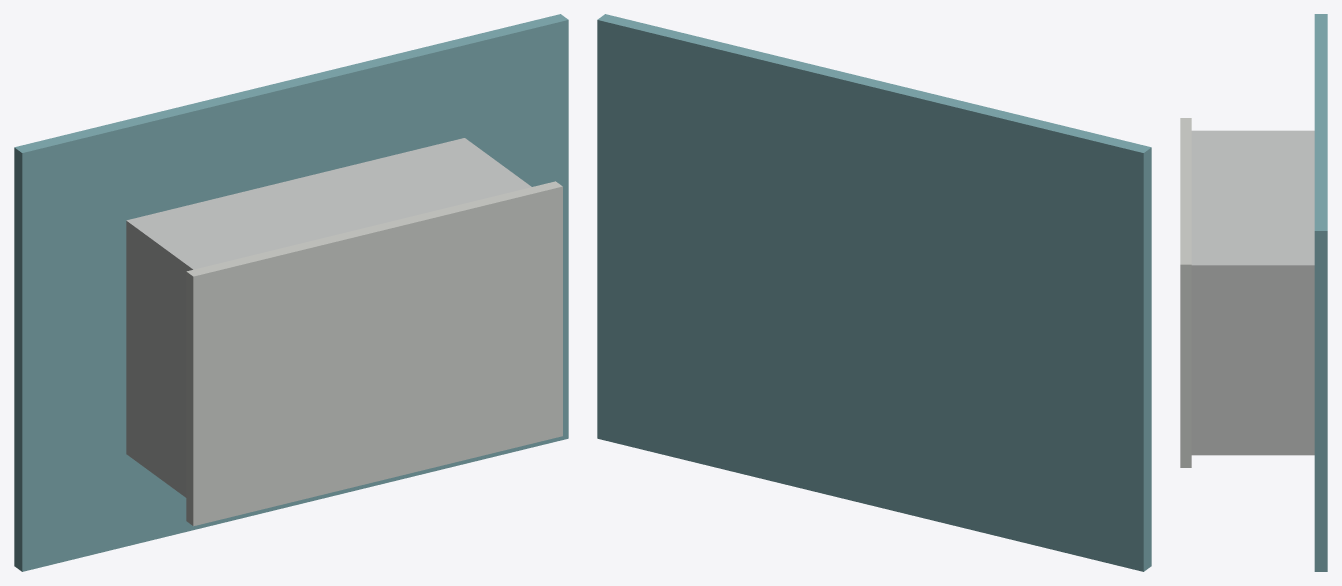
3 renders of one model, left to right at view 1: azimuth 30°, elevation 25°; view 2: azimuth 150°, elevation 25°; view 3: azimuth 270°, elevation 25°, orthographic. The views are drawn at different scales.
Visible parts, largest first — view 1: section_00, section_02, section_01; view 2: section_00; view 3: section_01, section_00, section_02.
Part boxes in pixels (left/top/right/bottom): section_00: left=14, top=14, right=568, bottom=571; section_02: left=186, top=181, right=562, bottom=526; section_01: left=126, top=138, right=531, bottom=497; section_00: left=597, top=14, right=1151, bottom=571; section_01: left=1191, top=130, right=1314, bottom=455; section_00: left=1314, top=14, right=1327, bottom=571; section_02: left=1180, top=118, right=1191, bottom=467.
Bounding box in the file's own units: 7.1 × 5.2 × 2.04.
